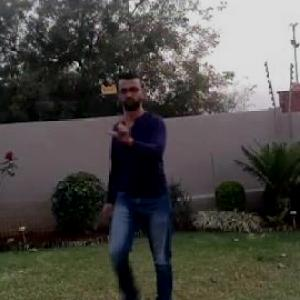land_hand: (106, 106, 136, 146)
